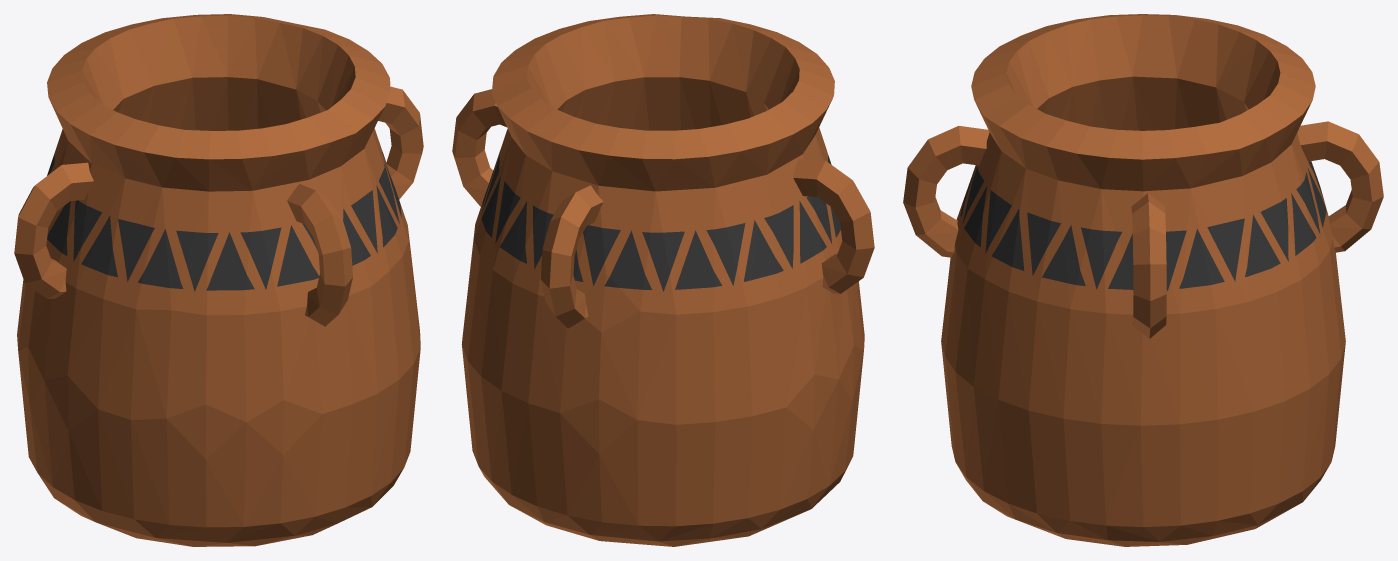
The model's file is Pottery 20_2.fbx.
The picture shows the model from 3 angles, left to right: view 1: azimuth 30°, elevation 25°; view 2: azimuth 150°, elevation 25°; view 3: azimuth 270°, elevation 25°; orthographic projection.
Visible parts, largest first — view 1: Pottery 20_2; view 2: Pottery 20_2; view 3: Pottery 20_2.
Boxes of the visible parts, x1=… form: Pottery 20_2: x1=14, y1=14, x2=423, y2=546; Pottery 20_2: x1=452, y1=14, x2=874, y2=546; Pottery 20_2: x1=903, y1=14, x2=1383, y2=546.
Bounding box in the file's own units: 62.86 × 59.44 × 62.86.
